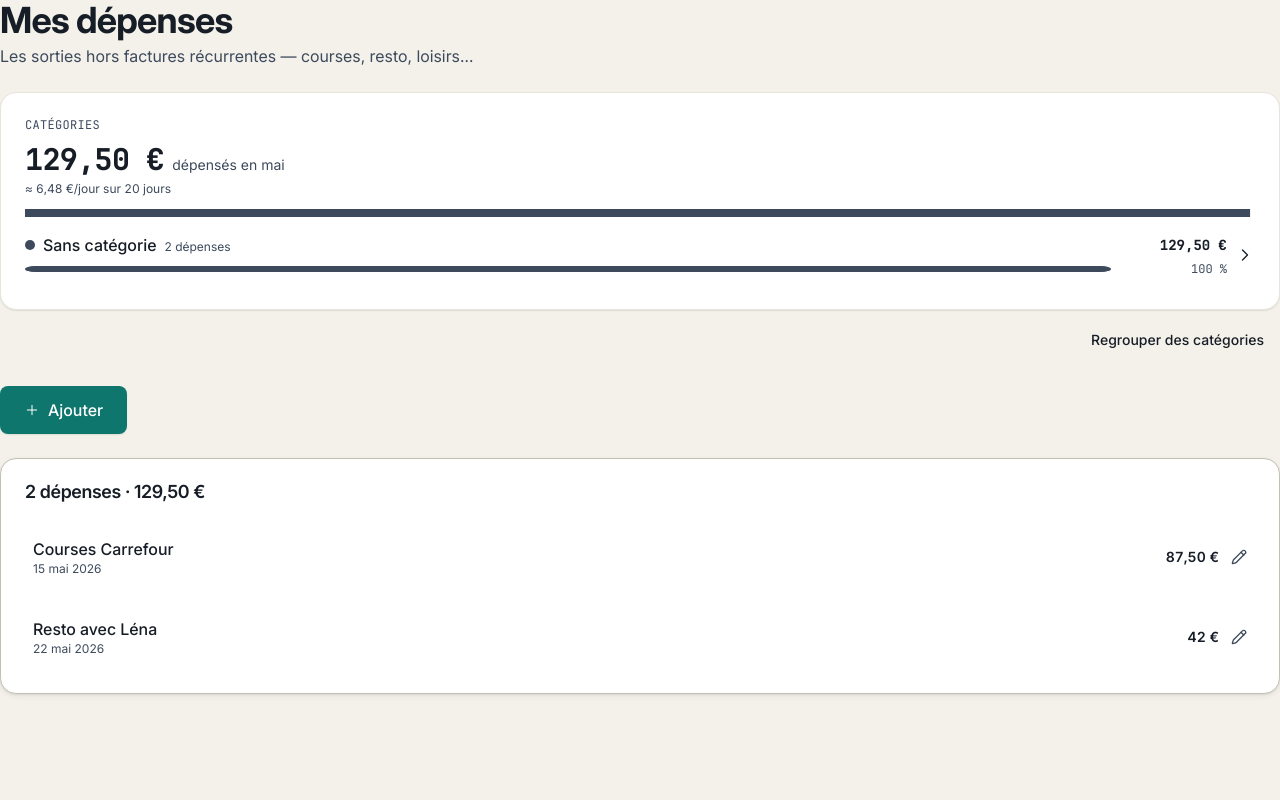
Test case: <ExpensesClient /> — « Depuis », the account of an expense (rule 25) › closes without writing when nothing changed
Click the button with test id "expenses-row-edit-e1".
click(103, 549)  # box [25,525,1255,589]
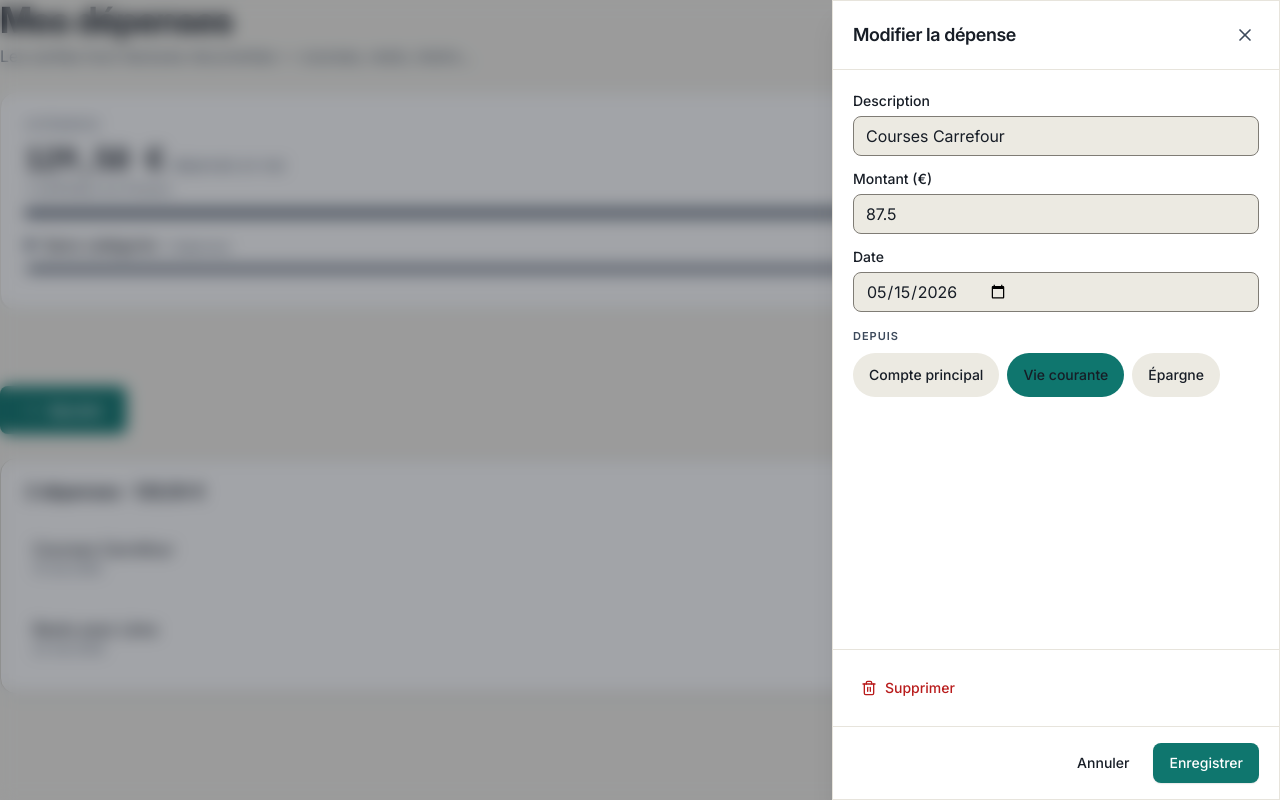
Expected: the dialog with test id "expense-edit-drawer" is shown
Click the button with test id "expense-edit-save".
click(1206, 763)  # box [1154,743,1259,783]
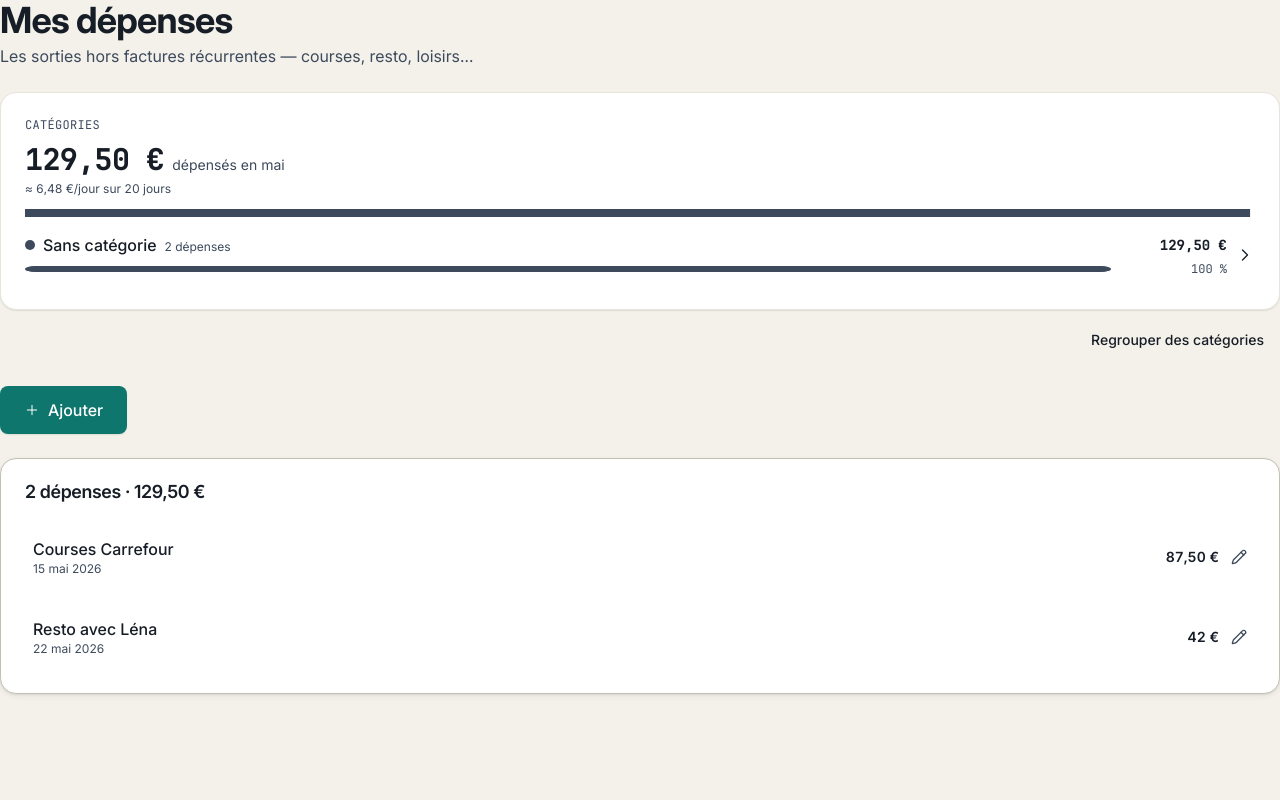
Expected: the dialog with test id "expense-edit-drawer" is gone
